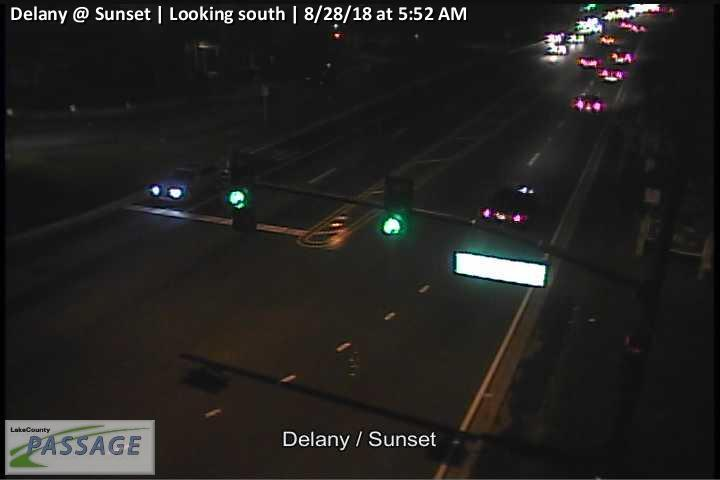Sedan: (479, 184, 535, 225), (573, 92, 606, 112), (598, 65, 626, 81), (609, 48, 635, 63), (578, 55, 601, 69), (598, 32, 615, 45)
